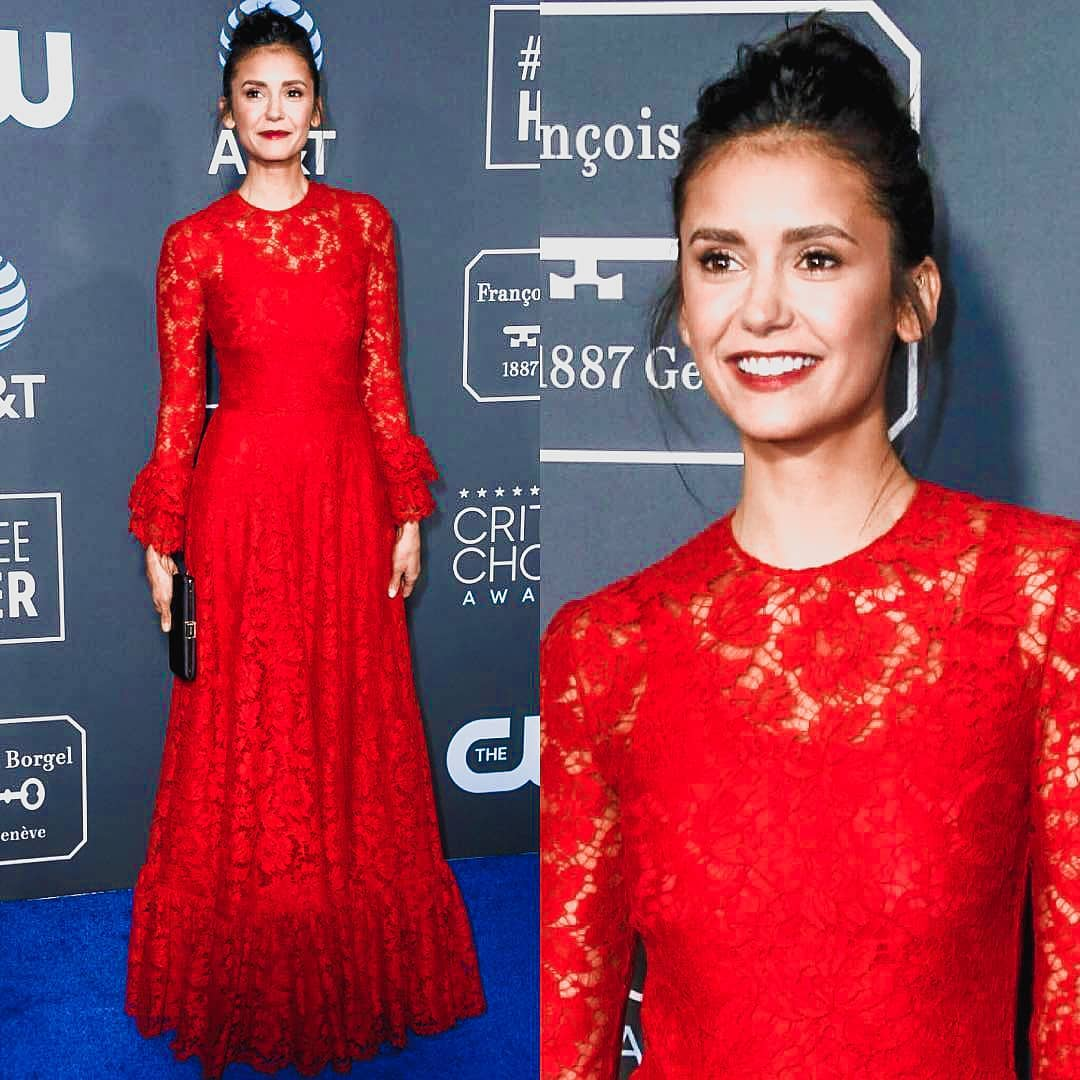hand: (394, 516, 420, 596)
